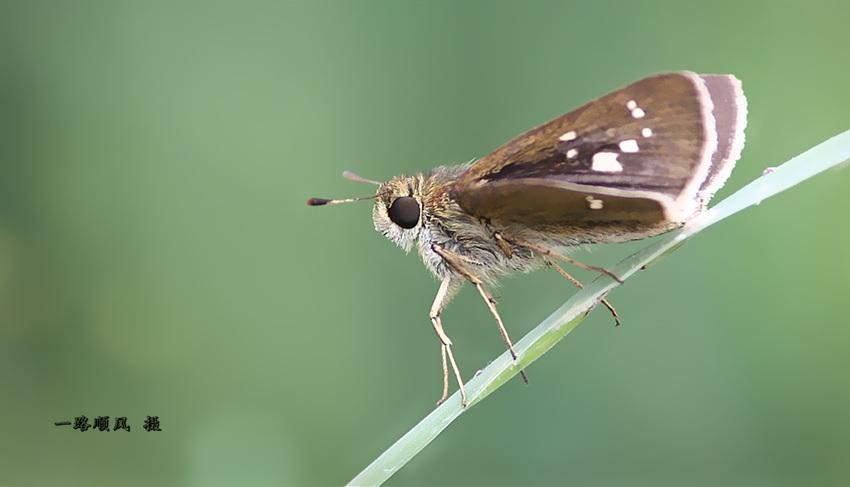Hesperiidae: (307, 69, 753, 411)
